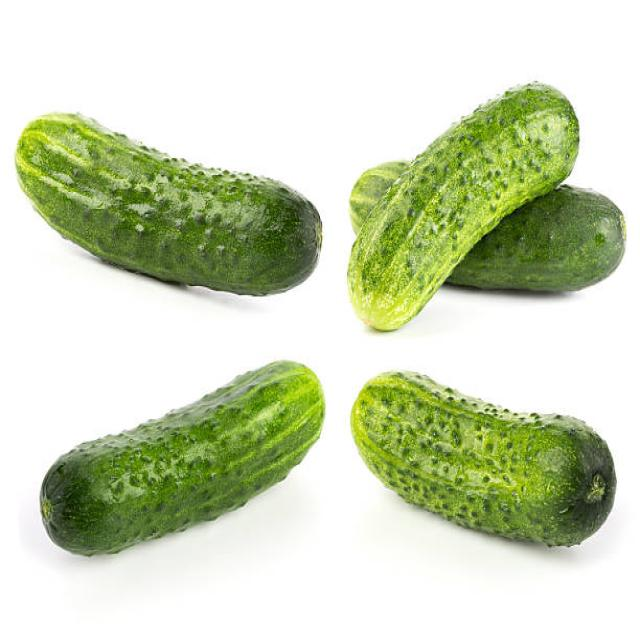cucumber: (348, 79, 628, 334), (16, 111, 323, 299), (40, 357, 324, 560), (349, 370, 616, 550)
